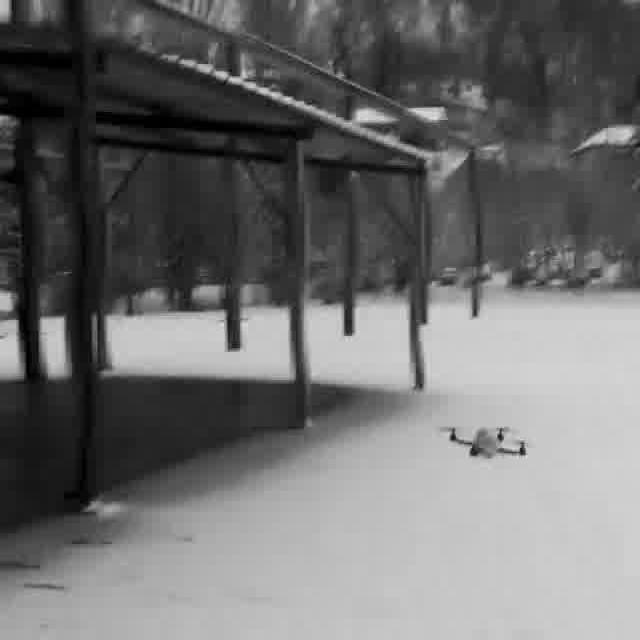drone: (435, 420, 532, 460)
